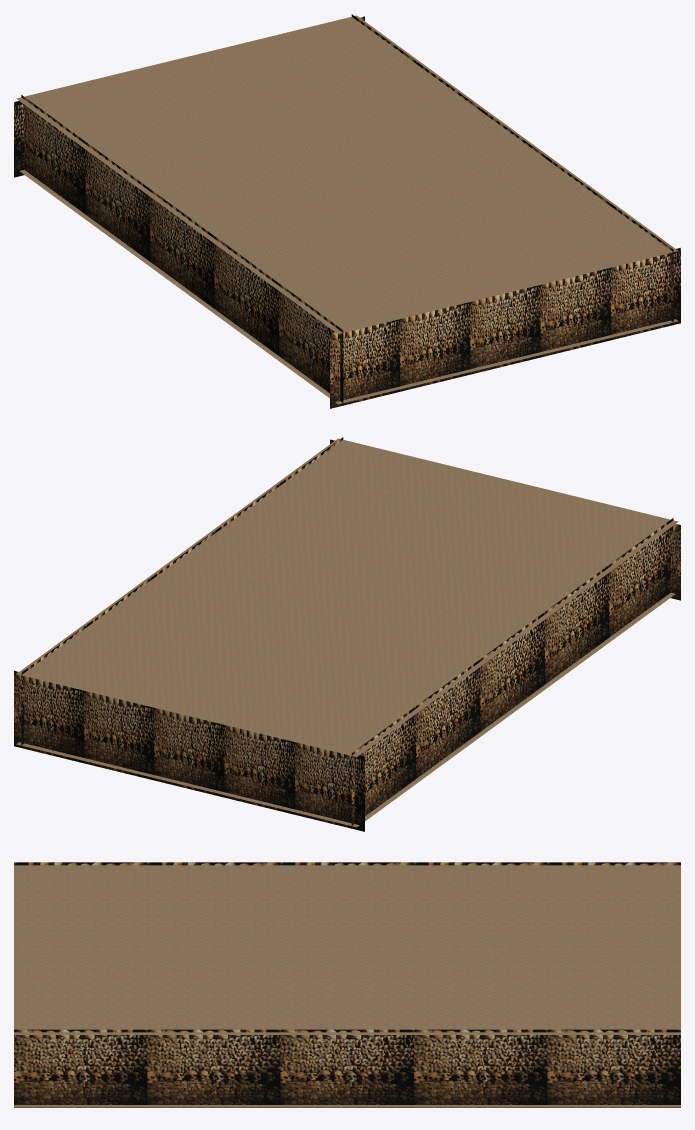
Rendered from terrain.FBX.
The picture shows the model from 3 angles, top to bottom: view 1: azimuth 30°, elevation 25°; view 2: azimuth 150°, elevation 25°; view 3: azimuth 270°, elevation 25°; orthographic projection. The views are drawn at different scales.
Parts seen in each view (by area): view 1: Plane06, Plane03, Plane04, Plane01, Plane05, Plane02; view 2: Plane06, Plane02, Plane04, Plane01, Plane05, Plane03; view 3: Plane06, Plane05, Plane04, Plane01.
Part boxes in pixels (x1=…): Plane06: x1=16, y1=15, x2=678, y2=333; Plane03: x1=330, y1=247, x2=680, y2=408; Plane04: x1=21, y1=95, x2=343, y2=405; Plane01: x1=19, y1=170, x2=678, y2=404; Plane05: x1=351, y1=14, x2=673, y2=324; Plane02: x1=14, y1=16, x2=364, y2=177; Plane06: x1=16, y1=438, x2=678, y2=756; Plane02: x1=14, y1=670, x2=364, y2=831; Plane04: x1=351, y1=518, x2=673, y2=828; Plane01: x1=16, y1=593, x2=675, y2=827; Plane05: x1=21, y1=437, x2=343, y2=747; Plane03: x1=330, y1=439, x2=680, y2=600; Plane06: x1=14, y1=865, x2=680, y2=1034; Plane05: x1=14, y1=1029, x2=680, y2=1107; Plane04: x1=14, y1=862, x2=680, y2=865; Plane01: x1=14, y1=1105, x2=680, y2=1107.
Bounding box in the file's own units: 340 × 540 × 72.5.
Materials: 2 (2 with a texture image).
